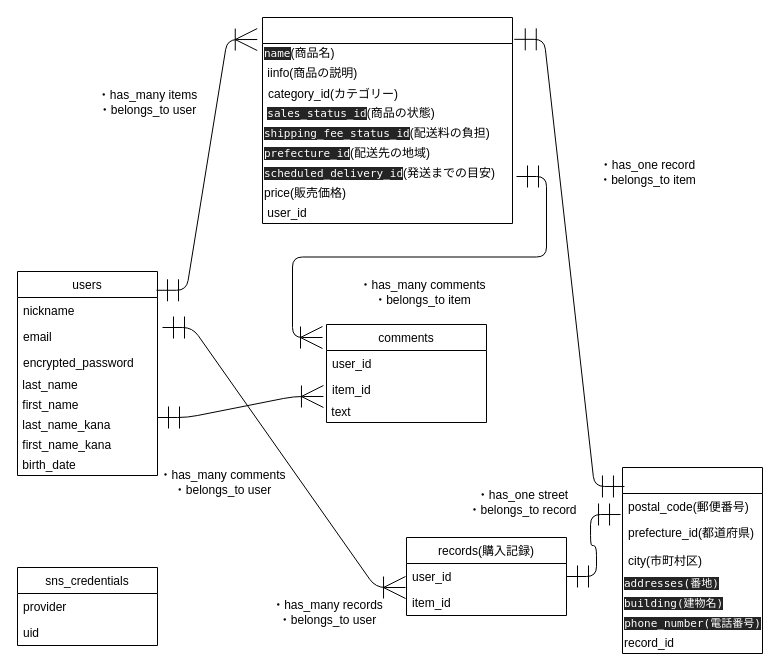
Some shapes in this 780 by 672 pixel diagram are drawn without their labels. Each missing label, with the box of its shape:
items(商品情報): (262, 16, 512, 224)
streets(住所): (622, 466, 762, 654)
